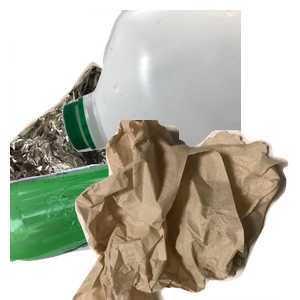glass: (10, 149, 203, 300)
metal: (10, 47, 216, 227)
plastic: (60, 10, 300, 190)
trash: (70, 120, 300, 300)
